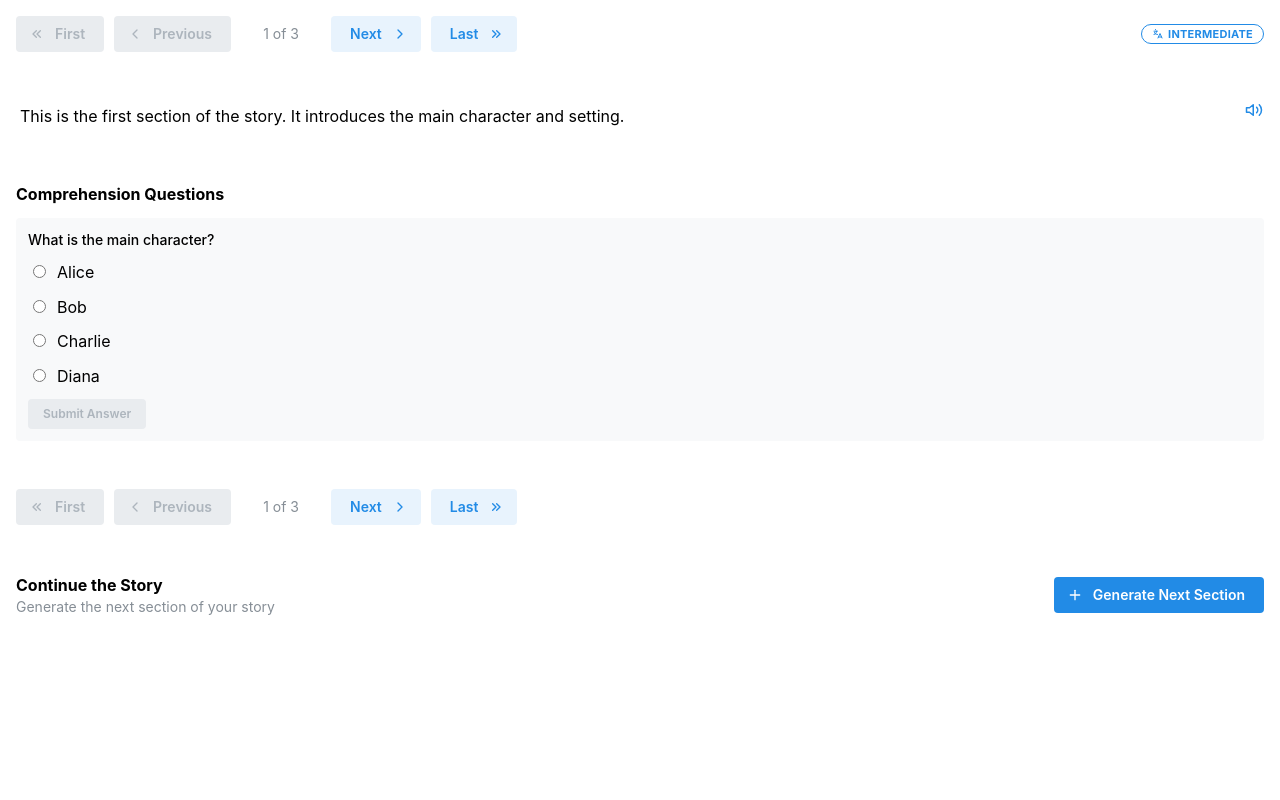
Test case: StorySectionView › Question Interaction › shows feedback after answering
# Select an answer
Click the radio button labelled "Alice": (40, 271) [33,265,46,278]
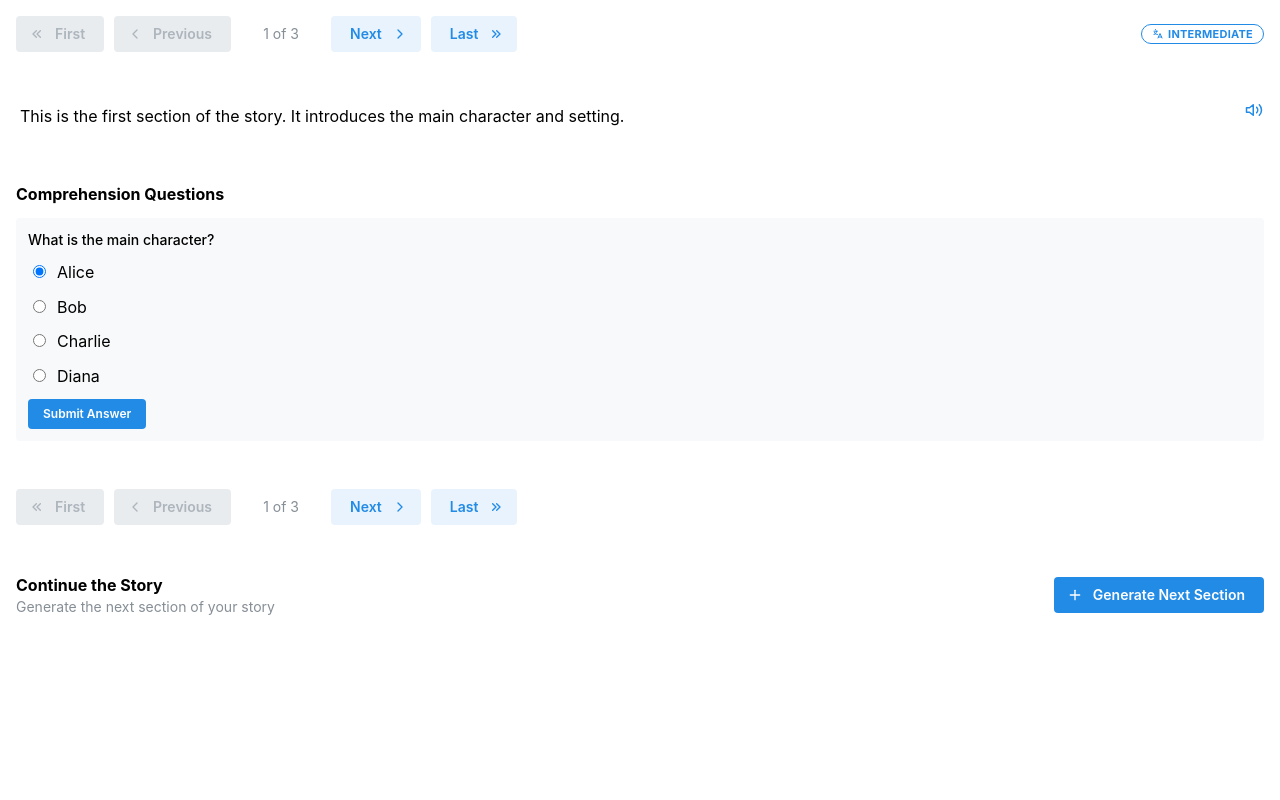
Click the button "Submit Answer": (87, 414) [28,399,146,429]
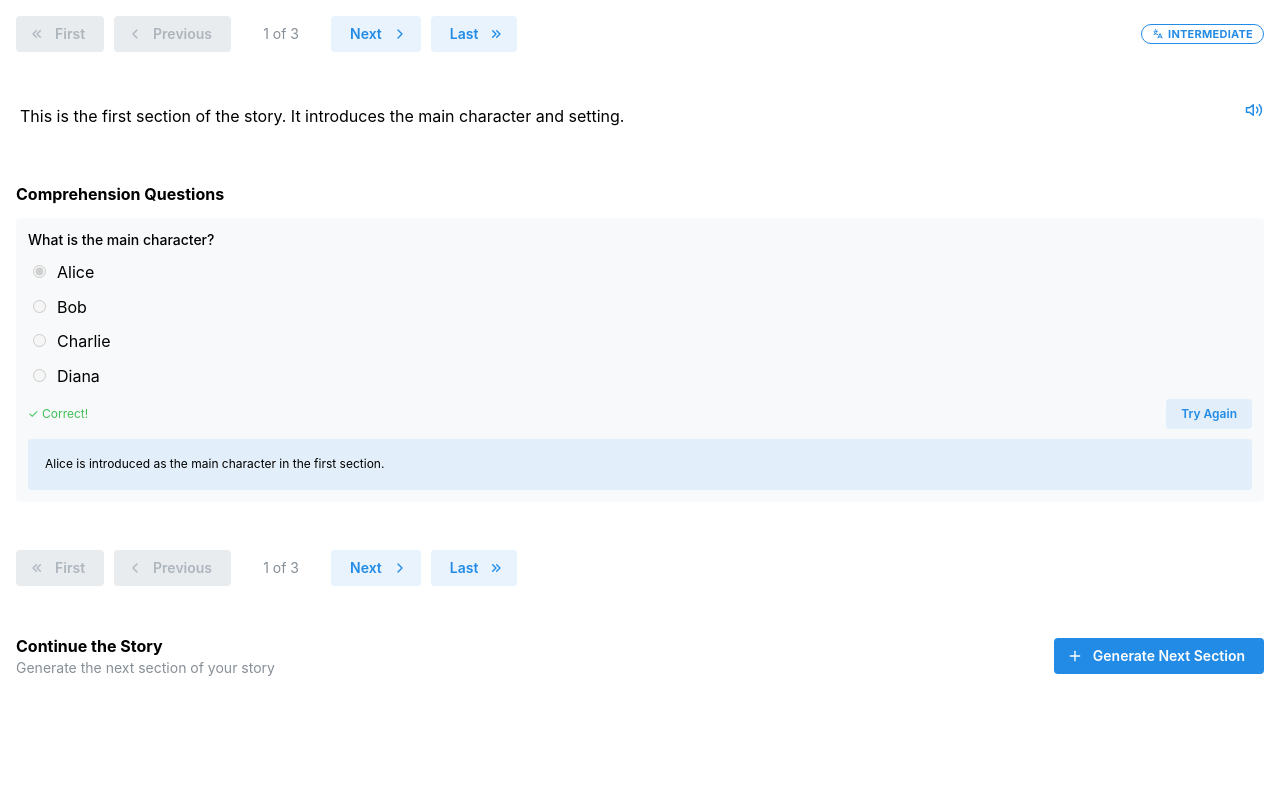
Result: the text "✓ Correct!" is shown at [28,406,88,422]
Result: the text "Alice is introduced as the main character" is shown at [45,456,384,471]
